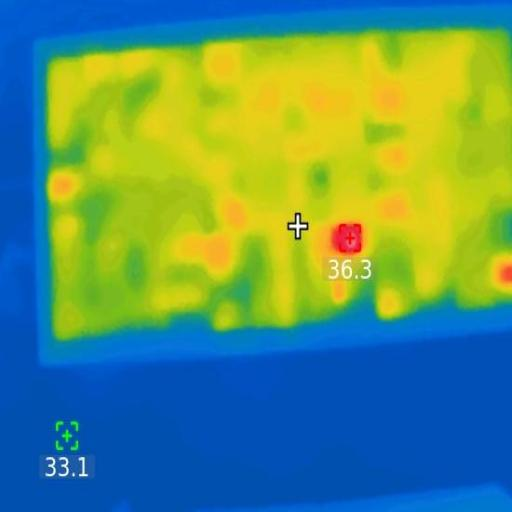hotspot: (333, 226, 366, 254)
